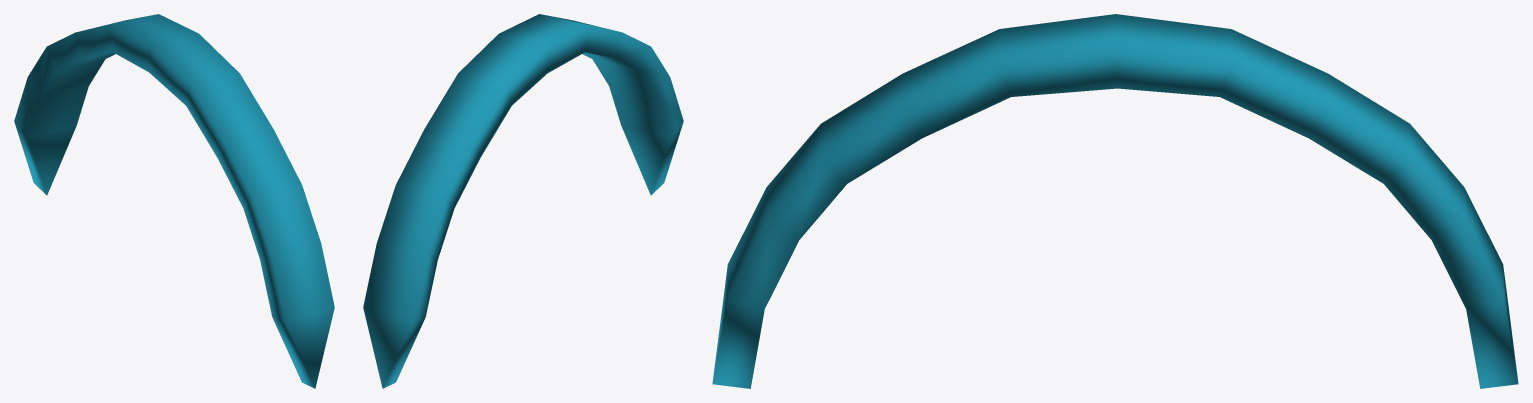
The model's file is launch_arc_half.obj.
3 views of the same model, side by side, from view 1: azimuth 30°, elevation 25°; view 2: azimuth 150°, elevation 25°; view 3: azimuth 270°, elevation 25° (orthographic). The views are drawn at different scales.
Parts seen in each view (by area): view 1: Plane001; view 2: Plane001; view 3: Plane001.
Boxes of the visible parts, bbox=[...] form: Plane001: bbox=[14, 14, 334, 388]; Plane001: bbox=[363, 14, 683, 388]; Plane001: bbox=[712, 14, 1518, 388].
Size of the model in its own units: 0.102 by 0.4906 by 1.
